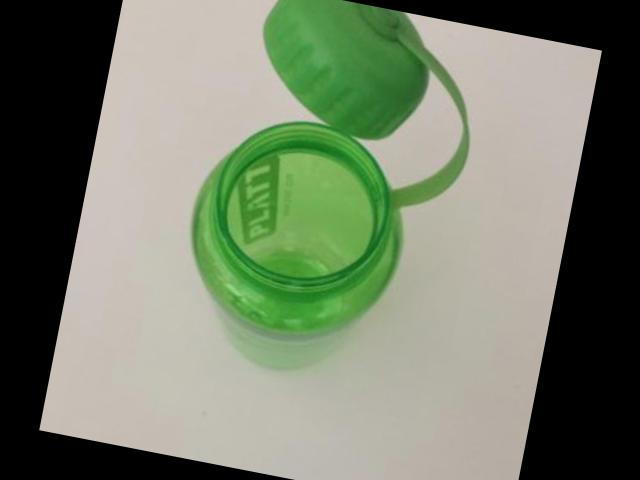plastic: (191, 0, 468, 367)
